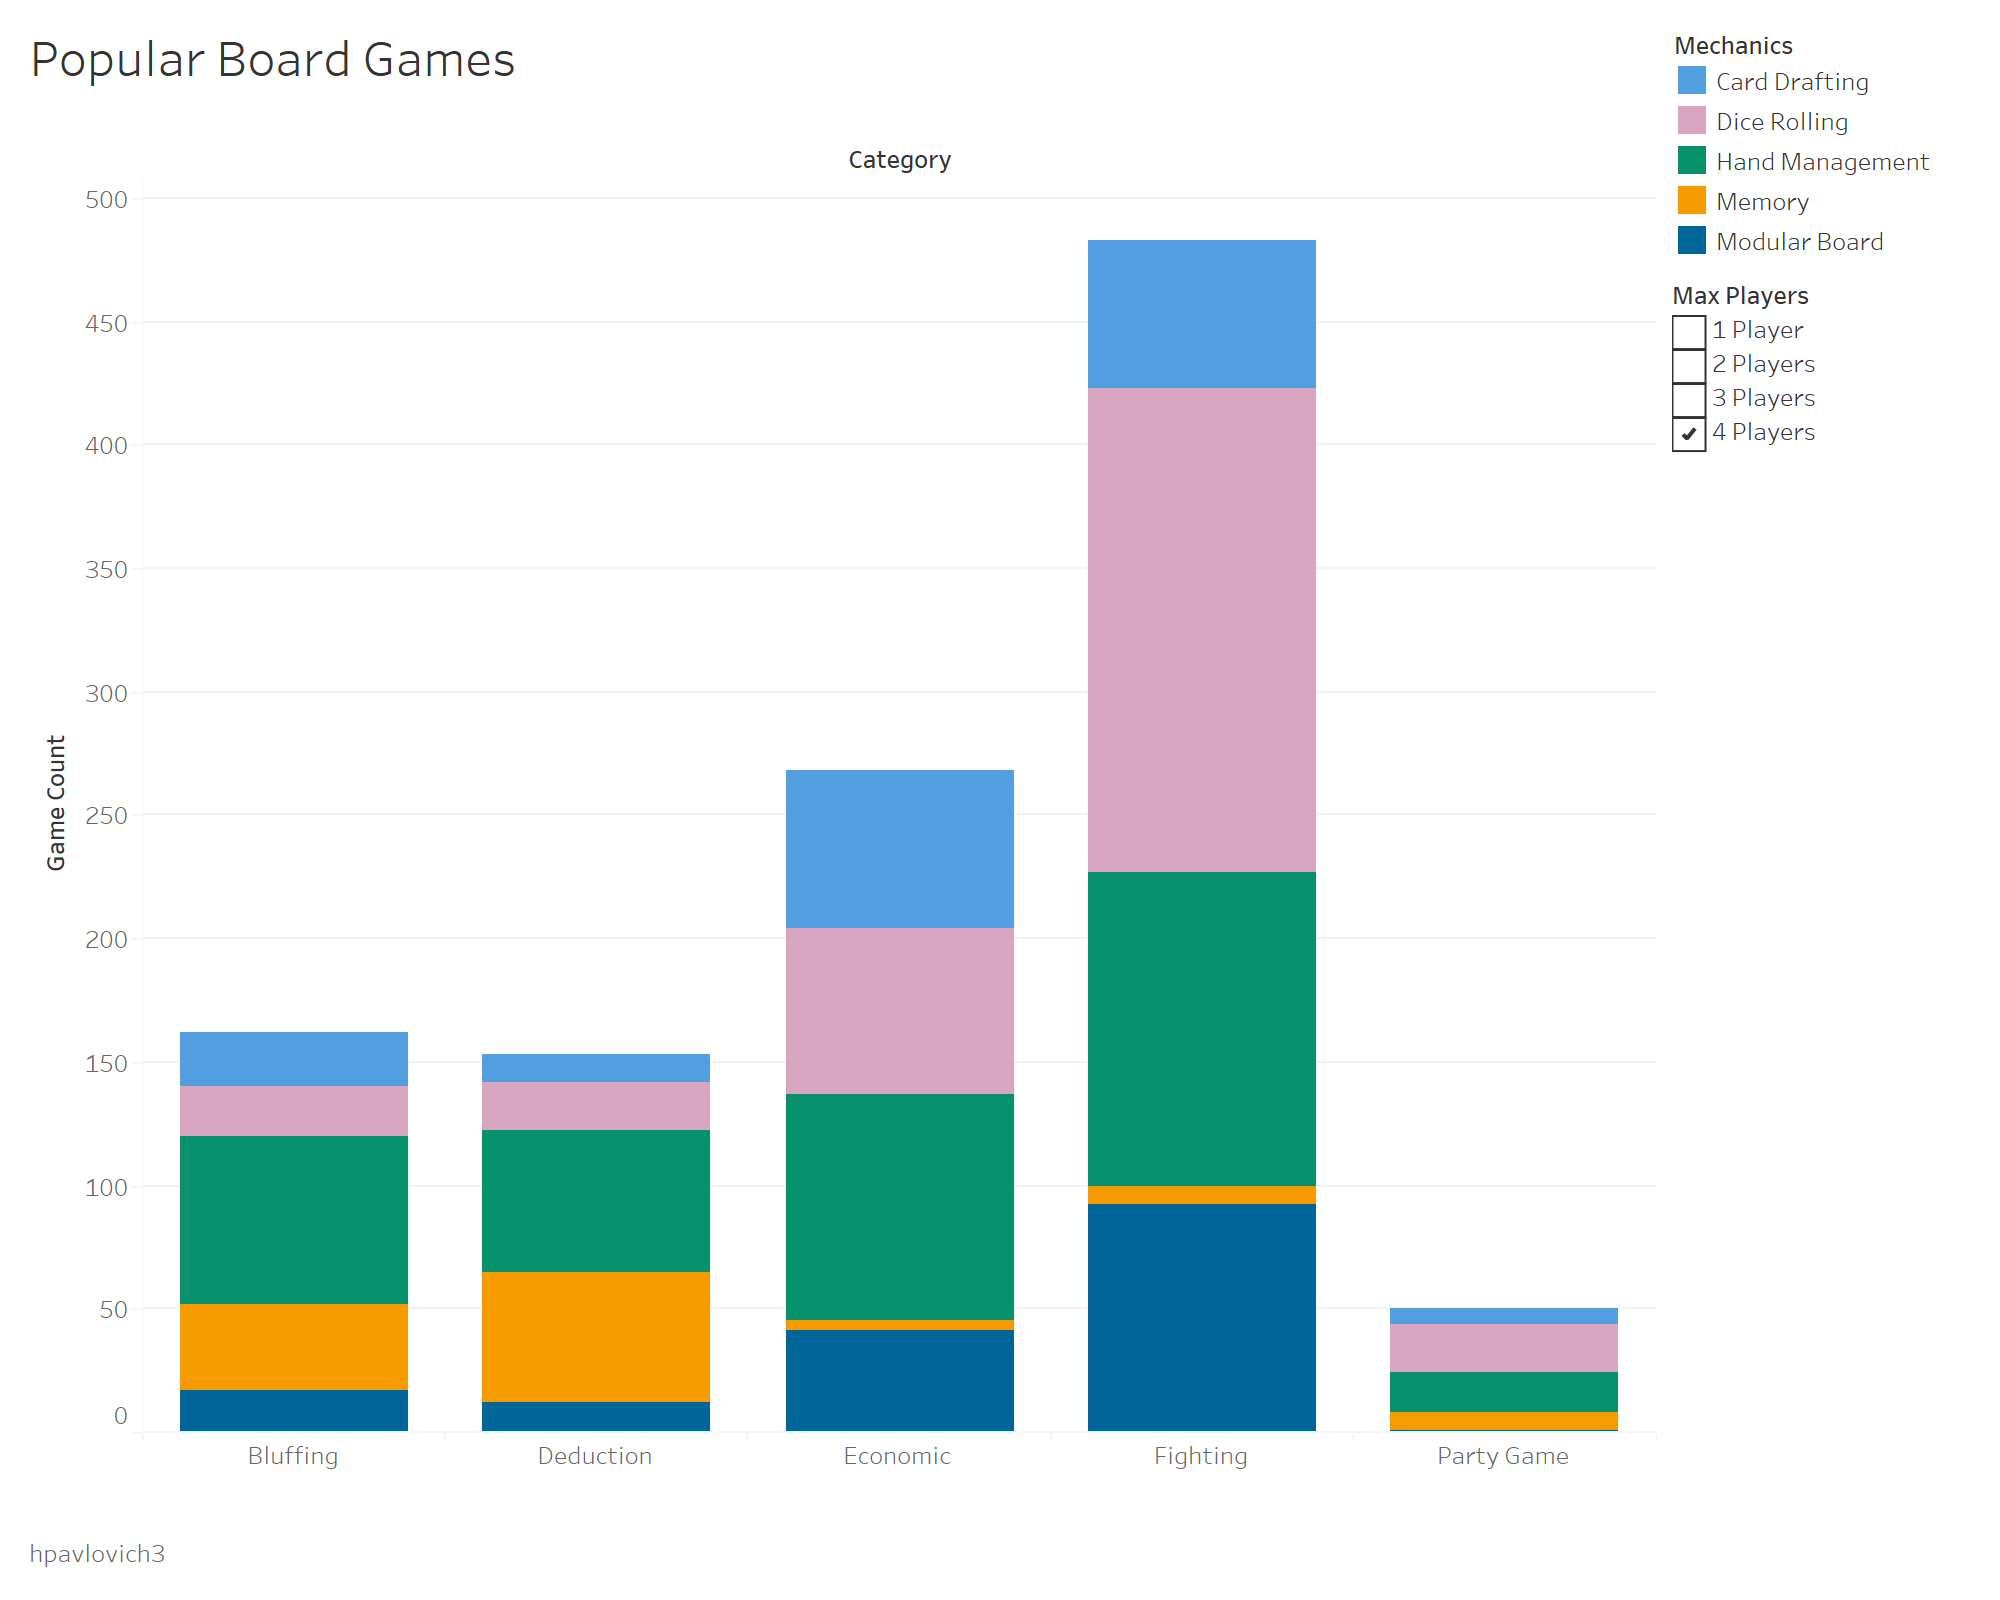

This screenshot's page, from the dashboard's own definition file:
{"tool":"tableau","page":{"name":"Dashboard 2","canvas":[1000,800],"ordinal":1},"visuals":[{"type":"title","box":[8,8,824,42]},{"type":"legend","title":"Q1.3","param":"[federated.0xkgofh1ii3cqy1dkwjwh1vd7bi1].[none:mechanics:nk]","box":[832,8,160,126]},{"type":"worksheet","title":"Q1.3","mark":"Automatic","rows":["category"],"cols":["category"],"box":[8,50,824,710]},{"type":"filter","title":"Q1.3","param":"[federated.0xkgofh1ii3cqy1dkwjwh1vd7bi1].[none:max_players:nk]","box":[832,134,160,127]},{"type":"text","box":[8,760,824,32]}]}

Visuals, with their boxes in screenshot pixels (x1, y1, x2, y2), scaled from the page's 1000x800 canvas onto the 2000x1600 screenshot:
title: {"left": 16, "top": 16, "right": 1664, "bottom": 100}
"Q1.3" legend: {"left": 1664, "top": 16, "right": 1984, "bottom": 268}
"Q1.3" worksheet: {"left": 16, "top": 100, "right": 1664, "bottom": 1520}
"Q1.3" filter: {"left": 1664, "top": 268, "right": 1984, "bottom": 522}
text: {"left": 16, "top": 1520, "right": 1664, "bottom": 1584}
